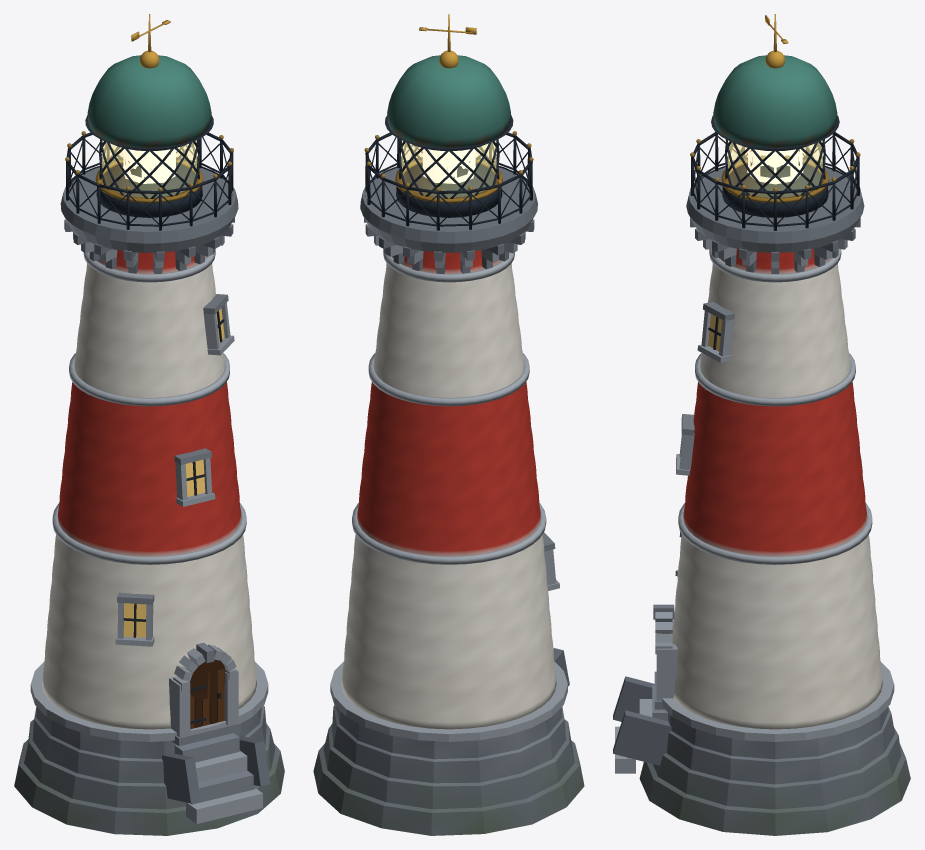
File: lighthouse.glb
3 renders of one model, left to right at view 1: azimuth 30°, elevation 25°; view 2: azimuth 150°, elevation 25°; view 3: azimuth 270°, elevation 25°, orthographic.
Parts seen in each view (by area): view 1: LHTowerBody, LHFoundation, LHDoorAndWindows, LHGalleryAndCorbels, LHCupolaAndVane, LHLanternRoomFrame, LHRailing, LighthouseGlass, LHFresnelOptic; view 2: LHTowerBody, LHFoundation, LHGalleryAndCorbels, LHCupolaAndVane, LHLanternRoomFrame, LHRailing, LighthouseGlass, LHFresnelOptic, LHDoorAndWindows; view 3: LHTowerBody, LHFoundation, LHGalleryAndCorbels, LHCupolaAndVane, LHLanternRoomFrame, LHDoorAndWindows, LHRailing, LighthouseGlass, LHFresnelOptic.
Boxes of the visible parts, left/top/right/bottom form: LHTowerBody: left=42, top=249, right=256, bottom=729; LHFoundation: left=14, top=661, right=284, bottom=835; LHDoorAndWindows: left=115, top=294, right=240, bottom=746; LHGalleryAndCorbels: left=60, top=115, right=238, bottom=273; LHCupolaAndVane: left=87, top=14, right=211, bottom=147; LHLanternRoomFrame: left=95, top=139, right=203, bottom=217; LHRailing: left=65, top=131, right=233, bottom=230; LighthouseGlass: left=102, top=140, right=197, bottom=197; LHFresnelOptic: left=123, top=149, right=176, bottom=183; LHTowerBody: left=341, top=249, right=556, bottom=729; LHFoundation: left=313, top=648, right=584, bottom=835; LHGalleryAndCorbels: left=360, top=115, right=537, bottom=273; LHCupolaAndVane: left=387, top=14, right=510, bottom=147; LHLanternRoomFrame: left=395, top=139, right=502, bottom=217; LHRailing: left=364, top=131, right=533, bottom=230; LighthouseGlass: left=401, top=140, right=496, bottom=197; LHFresnelOptic: left=422, top=149, right=475, bottom=183; LHDoorAndWindows: left=542, top=532, right=559, bottom=590; LHTowerBody: left=672, top=248, right=882, bottom=729; LHFoundation: left=613, top=661, right=910, bottom=835; LHGalleryAndCorbels: left=686, top=115, right=864, bottom=273; LHCupolaAndVane: left=713, top=14, right=837, bottom=147; LHLanternRoomFrame: left=721, top=139, right=829, bottom=217; LHDoorAndWindows: left=653, top=301, right=734, bottom=709; LHRailing: left=690, top=131, right=860, bottom=230; LighthouseGlass: left=727, top=140, right=822, bottom=197; LHFresnelOptic: left=747, top=149, right=803, bottom=184.
Bounding box in the file's own units: 4.38 × 13.63 × 4.81.
